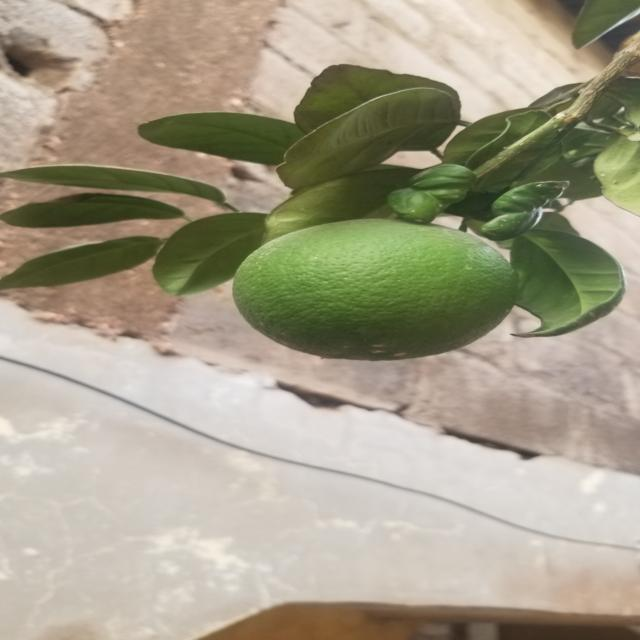Unripe: (235, 214, 526, 364)
